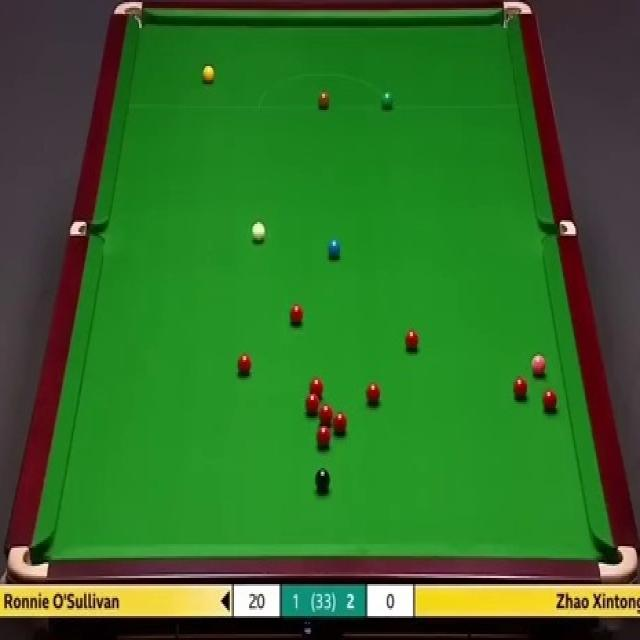black-ball: (314, 467, 332, 500)
blue-ball: (328, 238, 342, 259)
brown-ball: (316, 90, 329, 110)
green-ball: (380, 91, 396, 110)
pink-ball: (531, 355, 547, 374)
red-ball: (317, 424, 331, 451), (512, 376, 529, 398), (542, 389, 558, 412), (289, 302, 304, 326), (237, 353, 252, 376), (329, 408, 344, 431), (404, 328, 419, 350), (309, 376, 323, 398), (362, 386, 376, 408), (304, 393, 320, 411), (319, 403, 332, 425)
white-ball: (250, 222, 267, 244)
yellow-ball: (202, 65, 214, 86)
